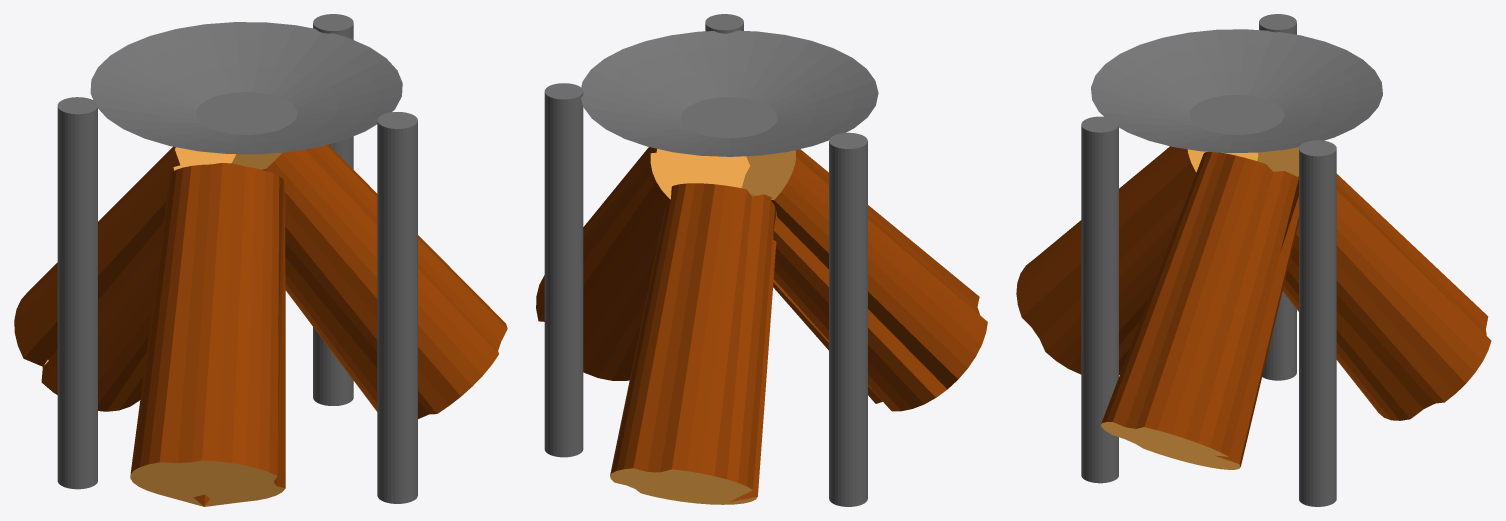
Rendered from firewood.fbx.
3 views of the same model, side by side, from view 1: azimuth 30°, elevation 25°; view 2: azimuth 150°, elevation 25°; view 3: azimuth 270°, elevation 25° (orthographic). The views are drawn at different scales.
Visible parts, largest first — view 1: Cylinder.004; view 2: Cylinder.004; view 3: Cylinder.004.
Part boxes in pixels (left/top/right/bottom): Cylinder.004: left=14, top=14, right=507, bottom=506; Cylinder.004: left=536, top=14, right=987, bottom=506; Cylinder.004: left=1016, top=14, right=1491, bottom=506.
Size of the model in its own units: 300 by 264 by 325.
